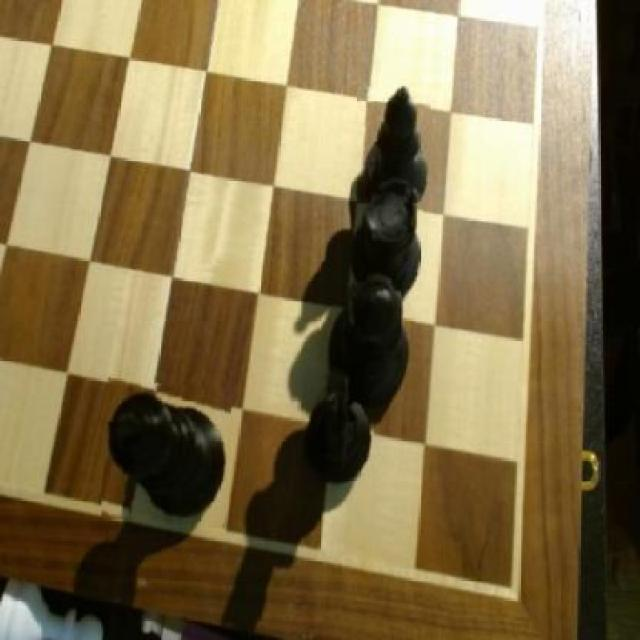bishop: (358, 85, 434, 207)
black-bishop: (102, 380, 230, 525)
black-king: (306, 372, 376, 483)
black-pawn: (332, 270, 416, 402)
black-queen: (352, 176, 424, 292)
